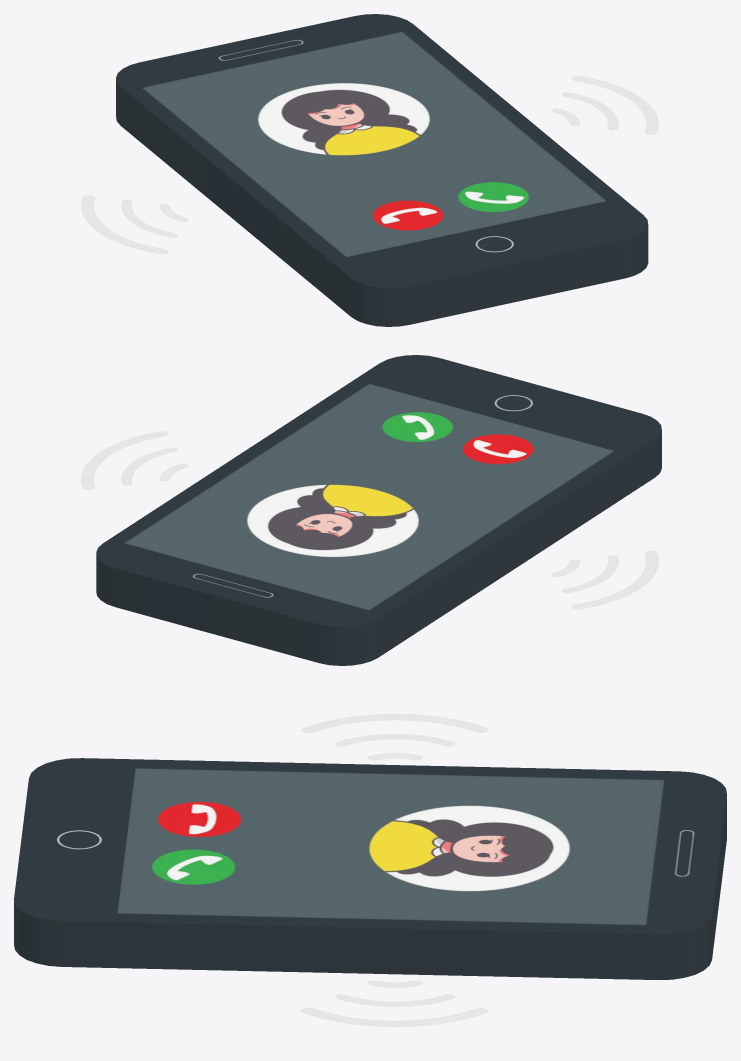
The model's file is contact-transformed.glb.
The picture shows the model from 3 angles, top to bottom: view 1: azimuth 30°, elevation 25°; view 2: azimuth 150°, elevation 25°; view 3: azimuth 270°, elevation 25°; orthographic projection. The views are drawn at different scales.
Visible parts, largest first — view 1: phone_0, Object_8, Object_6; view 2: phone_0, Object_6, Object_8; view 3: phone_0, Object_6, Object_8.
Boxes of the visible parts, x1,y1,x2,y2 form: phone_0: [116, 14, 648, 326]; Object_8: [552, 76, 658, 134]; Object_6: [81, 195, 187, 253]; phone_0: [96, 355, 661, 665]; Object_6: [552, 551, 658, 609]; Object_8: [81, 431, 187, 489]; phone_0: [14, 758, 726, 979]; Object_6: [301, 714, 488, 759]; Object_8: [301, 981, 488, 1026].
Size of the model in its own units: 0.1989 by 0.0121 by 0.1702.
1 material, 1 textured.
